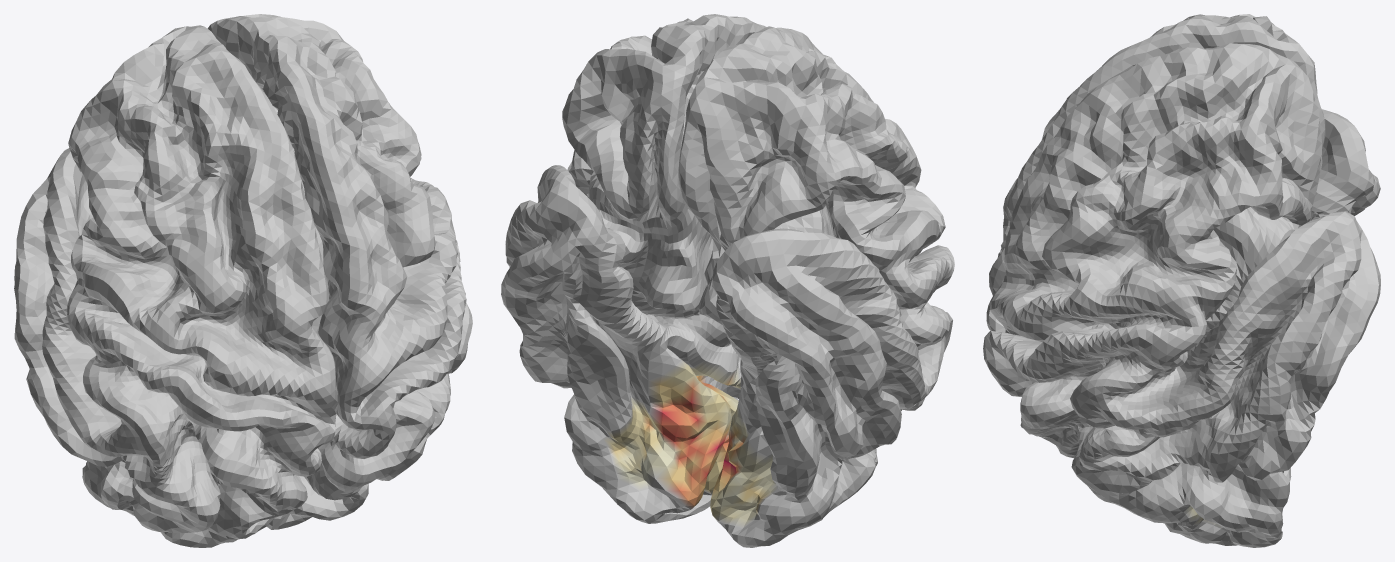
Rendered from brain_heatmap.glb.
3 renders of one model, left to right at view 1: azimuth 30°, elevation 25°; view 2: azimuth 150°, elevation 25°; view 3: azimuth 270°, elevation 25°, orthographic. The views are drawn at different scales.
Visible parts, largest first — view 1: world; view 2: world; view 3: world.
Part boxes in pixels (x1,y1,x2,y2): world: (14, 14, 472, 547); world: (501, 14, 954, 547); world: (983, 14, 1380, 547).
Size of the model in its own units: 139 by 174 by 128.
